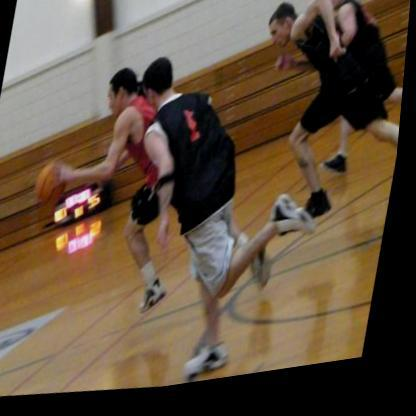basketball: (35, 156, 77, 215)
